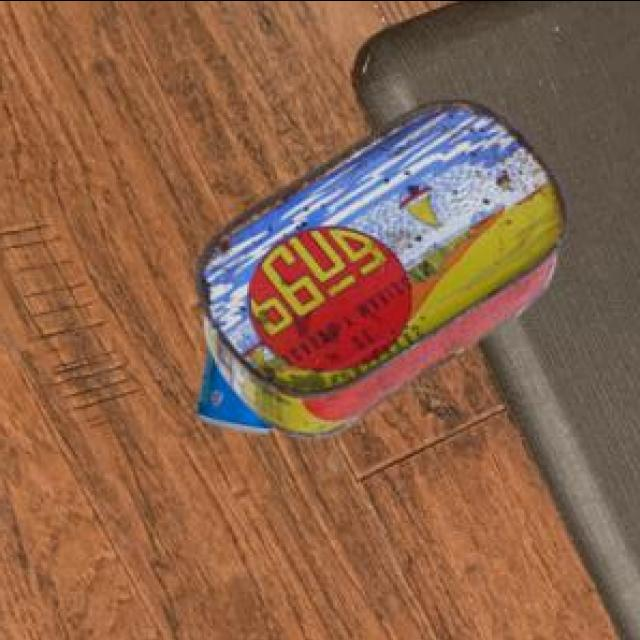logam: (201, 102, 570, 439), (201, 349, 276, 435)
